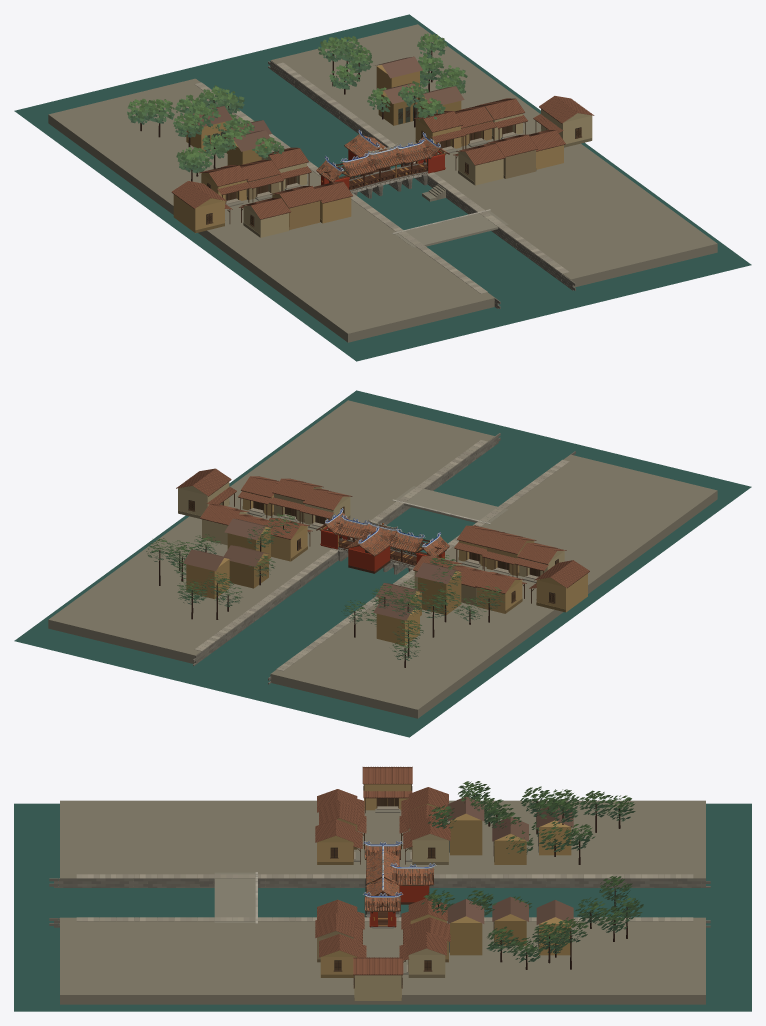
The model's file is chua_cau.glb.
3 renders of one model, top to bottom at view 1: azimuth 30°, elevation 25°; view 2: azimuth 150°, elevation 25°; view 3: azimuth 270°, elevation 25°, orthographic. The views are drawn at different scales.
Visible parts, largest first — view 1: ENV_Quays, ENV_Water, ENV_OldTown, ENV_Foliage, H06_RoofTiles, H03_Timber, H01_Masonry, H07_Ceramics; view 2: ENV_Quays, ENV_Water, ENV_OldTown, ENV_Foliage, H06_RoofTiles, H03_Timber, H08_Shrine, H07_Ceramics; view 3: ENV_Quays, ENV_Water, ENV_OldTown, ENV_Foliage, H06_RoofTiles, H03_Timber, H07_Ceramics, H08_Shrine.
Boxes of the visible parts, bbox=[...] form: ENV_Quays: bbox=[48, 24, 717, 342]; ENV_Water: bbox=[14, 14, 751, 361]; ENV_OldTown: bbox=[171, 56, 594, 237]; ENV_Foliage: bbox=[127, 33, 467, 181]; H06_RoofTiles: bbox=[316, 134, 449, 182]; H03_Timber: bbox=[316, 137, 449, 186]; H01_Masonry: bbox=[349, 163, 427, 198]; H07_Ceramics: bbox=[324, 129, 441, 171]; ENV_Quays: bbox=[48, 400, 717, 718]; ENV_Water: bbox=[14, 390, 751, 737]; ENV_OldTown: bbox=[176, 468, 589, 645]; ENV_Foliage: bbox=[146, 513, 504, 667]; H06_RoofTiles: bbox=[316, 512, 449, 556]; H03_Timber: bbox=[316, 517, 449, 562]; H08_Shrine: bbox=[348, 546, 390, 573]; H07_Ceramics: bbox=[324, 508, 441, 547]; ENV_Quays: bbox=[49, 800, 710, 1004]; ENV_Water: bbox=[14, 803, 751, 1011]; ENV_OldTown: bbox=[315, 766, 573, 1000]; ENV_Foliage: bbox=[421, 781, 643, 969]; H06_RoofTiles: bbox=[364, 845, 433, 910]; H03_Timber: bbox=[365, 849, 433, 927]; H07_Ceramics: bbox=[362, 841, 436, 897]; H08_Shrine: bbox=[399, 885, 429, 904].
Size of the model in its own units: 64 by 9.73 by 96.
